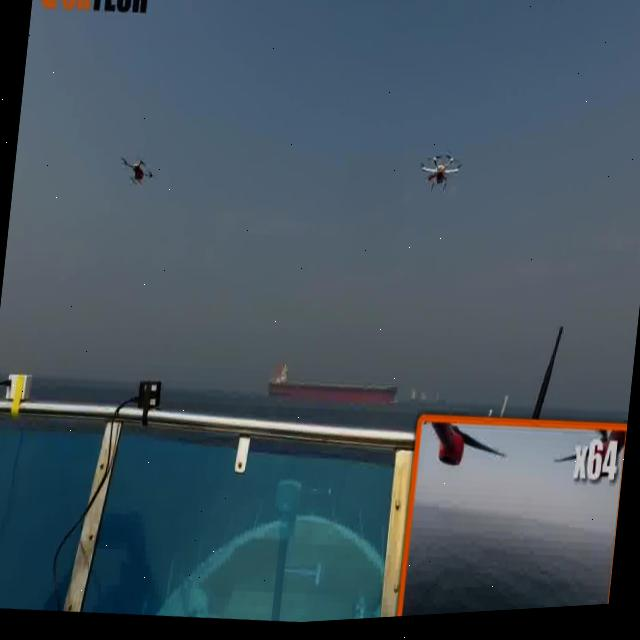drone: (106, 131, 166, 204)
